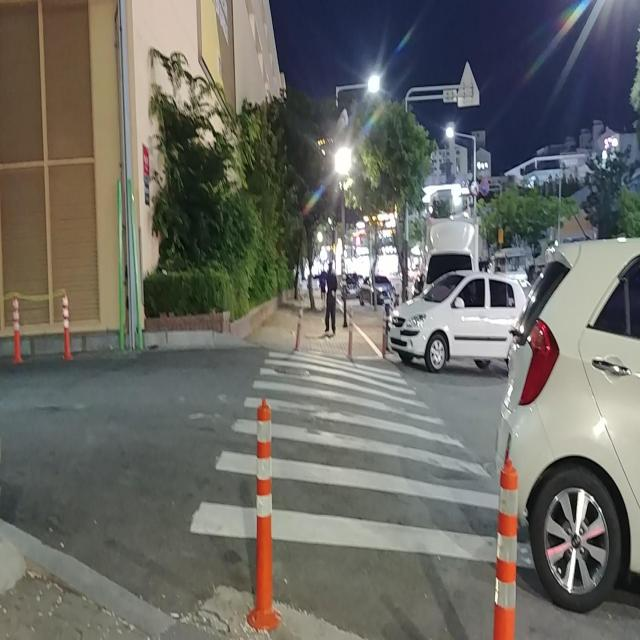횡단보도: (187, 344, 538, 572)
